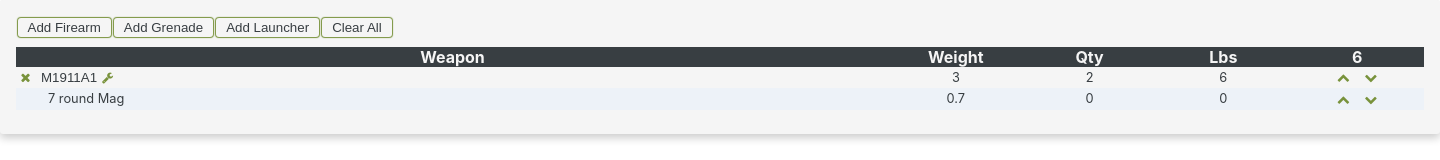
Test case: weapons card intergration tests › selecting firearms › should be possible to decrease qty of a gun
Click the 1st button with class "button--down": (1371, 77) [1363,69,1379,85]
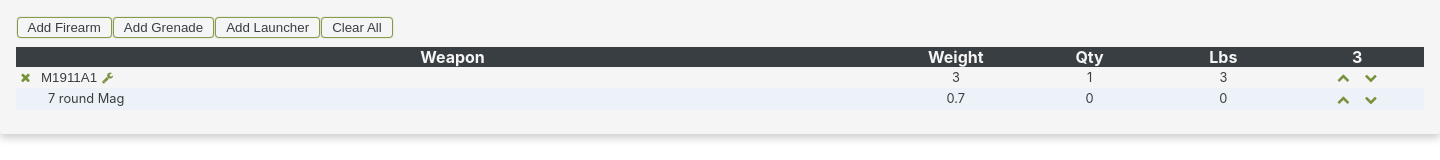
Now the element with class "gear-table-row--container" reads "M1911A1 3 1 3", box [16,66,1424,88]
